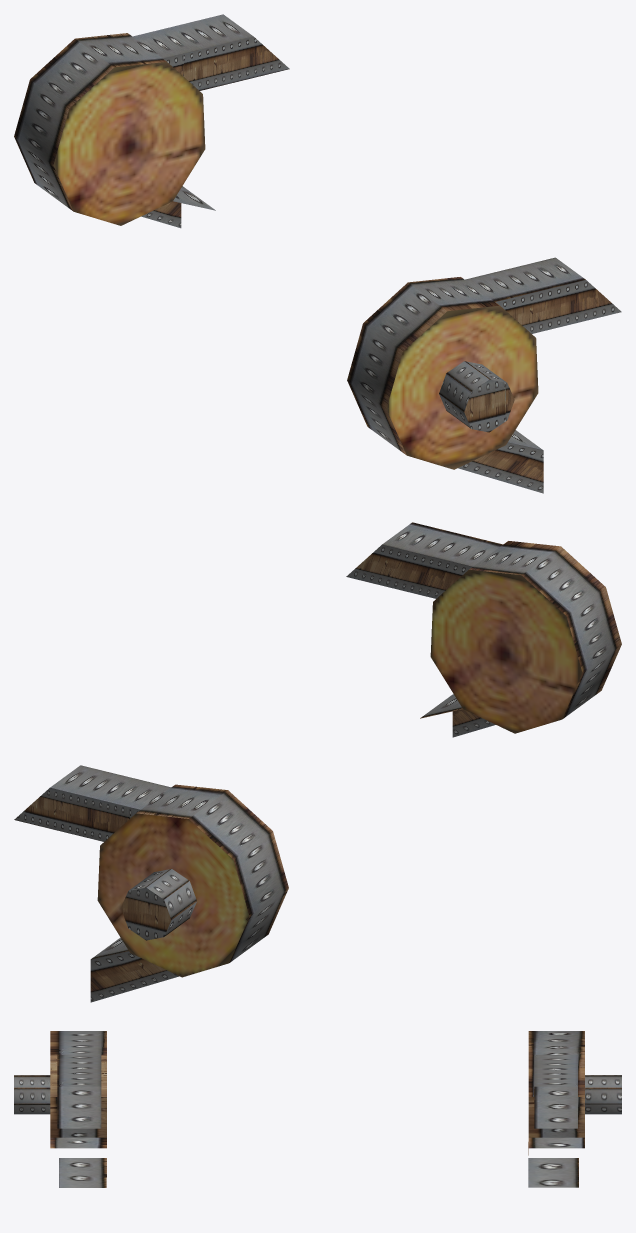
Rendered from P_Modul_25_Hinge.obj.
3 views of the same model, one above another, from view 1: azimuth 30°, elevation 25°; view 2: azimuth 150°, elevation 25°; view 3: azimuth 270°, elevation 25° (orthographic). The views are drawn at different scales.
Visible parts, largest first — view 1: P_Modul_25_Hinge; view 2: P_Modul_25_Hinge; view 3: P_Modul_25_Hinge.
Boxes of the visible parts, x1,y1,x2,y2 form: P_Modul_25_Hinge: (14, 14, 621, 493); P_Modul_25_Hinge: (14, 522, 621, 1002); P_Modul_25_Hinge: (14, 1031, 621, 1187).
Size of the model in its own units: 1.88 by 1.58 by 5.74.
